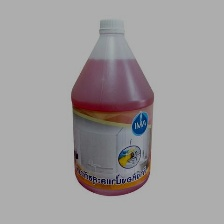cleaning_solution: (69, 16, 156, 199)
